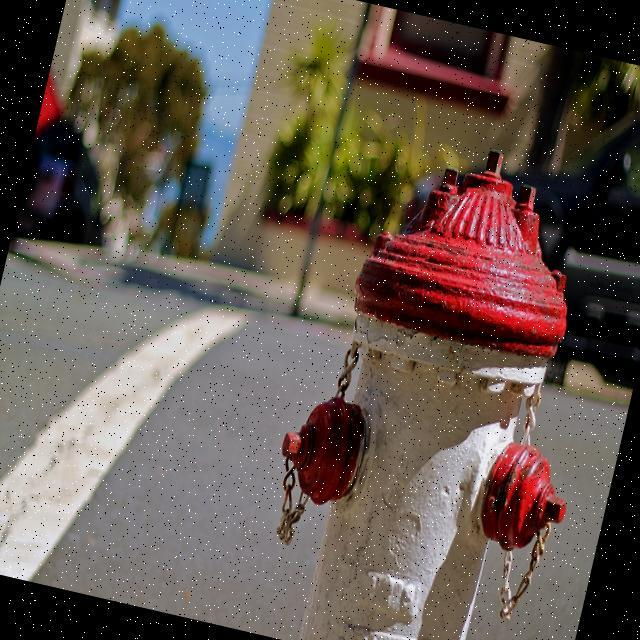fire_hydrant: (238, 112, 640, 640)
